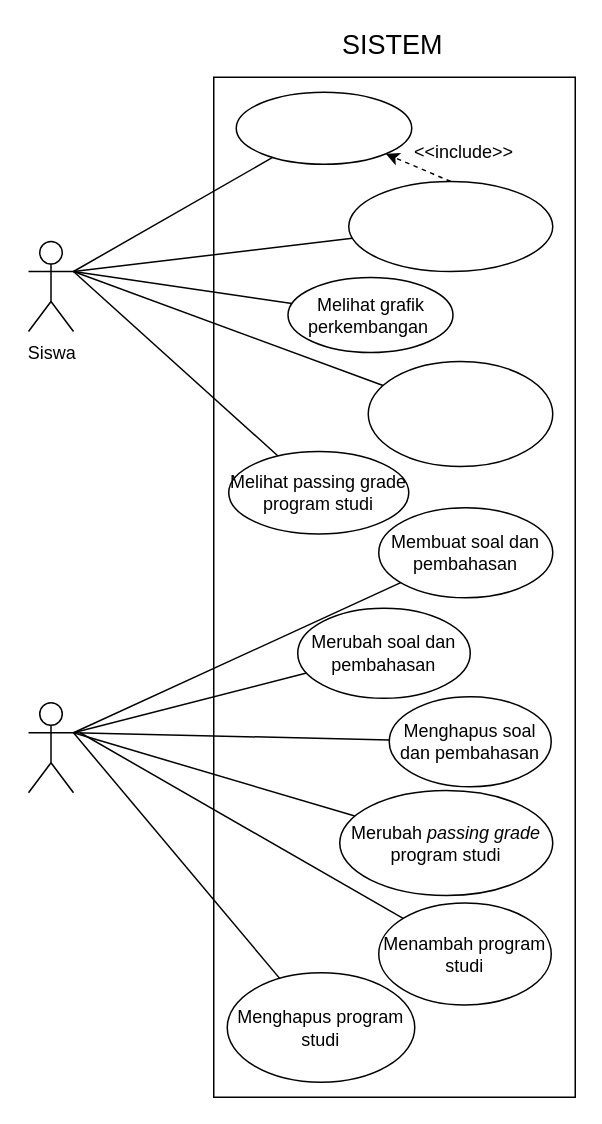
Some shapes in this 602 by 1124 pixel diagram are drawn without their labels. Here are the shapes that lost their labels. From the top down, the box of each, then its label:
(235, 91, 412, 164): Mengerjakan Soal
(347, 180, 553, 272): Melihat pembahasan soal
(367, 360, 553, 466): Melihat grafik intensitas pengerjaan soal
(27, 701, 74, 793): Admin
